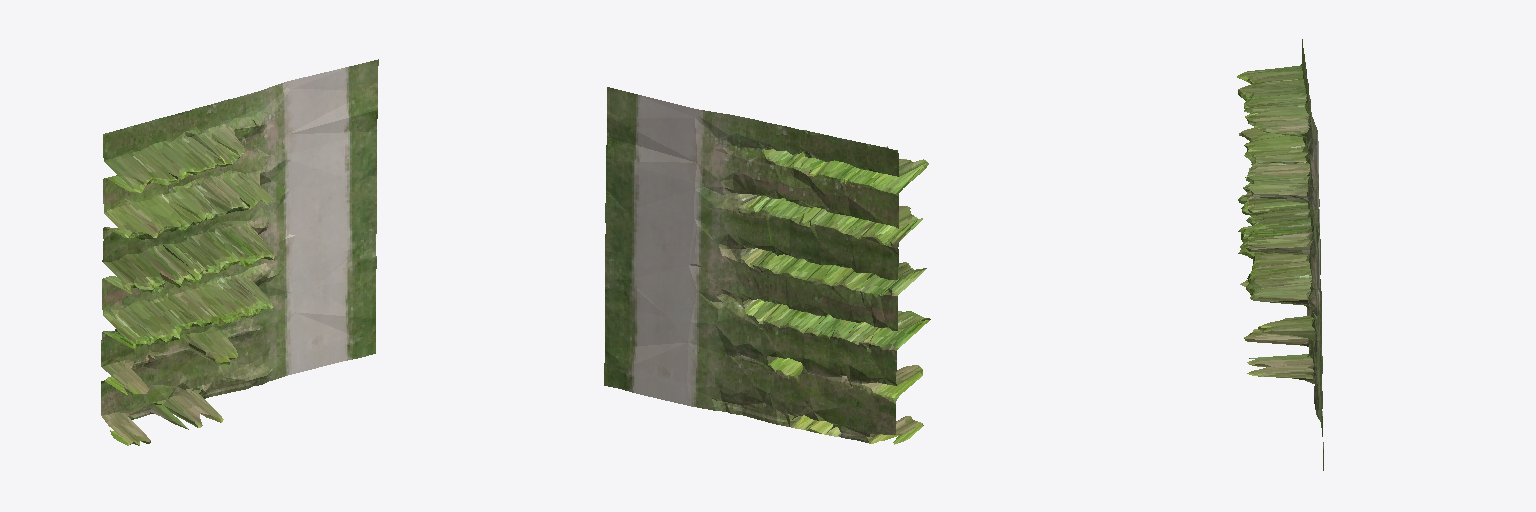
The picture shows the model from 3 angles: view 1: azimuth 30°, elevation 25°; view 2: azimuth 150°, elevation 25°; view 3: azimuth 270°, elevation 25°; orthographic projection.
Visible parts, largest first — view 1: grp1; view 2: grp1; view 3: grp1.
Part boxes in pixels (bbox=[...]): grp1: bbox=[101, 59, 378, 445]; grp1: bbox=[604, 87, 930, 444]; grp1: bbox=[1237, 39, 1323, 470].
Size of the model in its own units: 10 by 10 by 2.7.
1 materials, 1 textured.